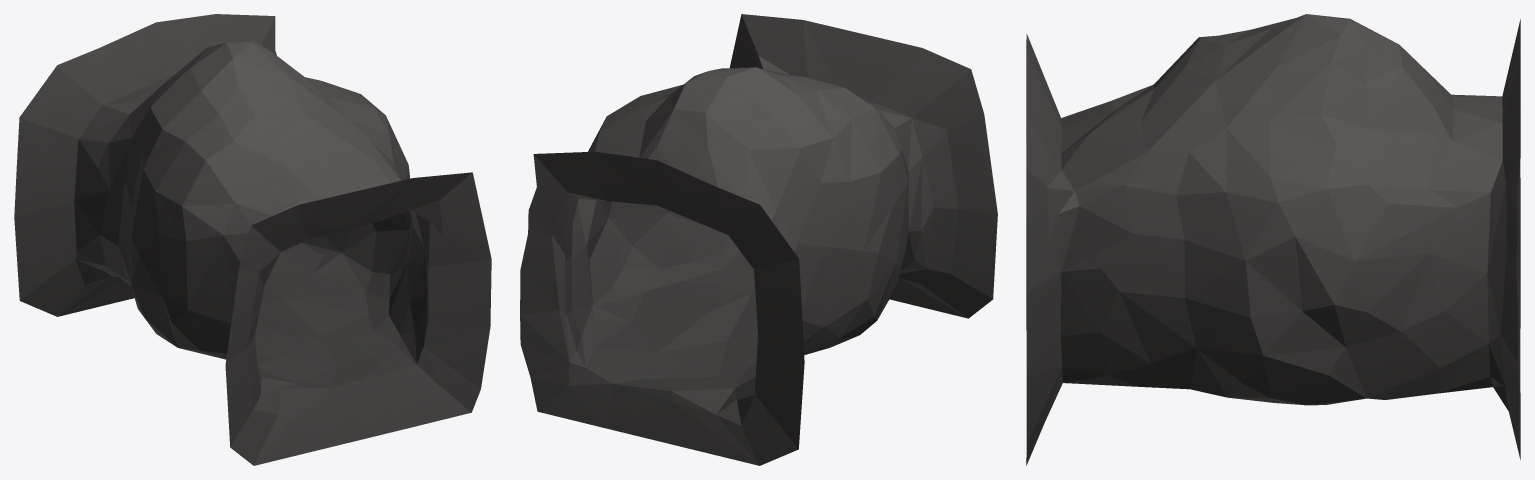
File: ZLP_Cave_B_3.FBX
3 views of the same model, side by side, from view 1: azimuth 30°, elevation 25°; view 2: azimuth 150°, elevation 25°; view 3: azimuth 270°, elevation 25° (orthographic). The views are drawn at different scales.
Visible parts, largest first — view 1: ZLP_Cave_B_3; view 2: ZLP_Cave_B_3; view 3: ZLP_Cave_B_3.
Boxes of the visible parts, left/top/right/bottom form: ZLP_Cave_B_3: left=14, top=14, right=491, bottom=465; ZLP_Cave_B_3: left=520, top=14, right=997, bottom=465; ZLP_Cave_B_3: left=1026, top=14, right=1520, bottom=465.
Bounding box in the file's own units: 691 × 677 × 806.
